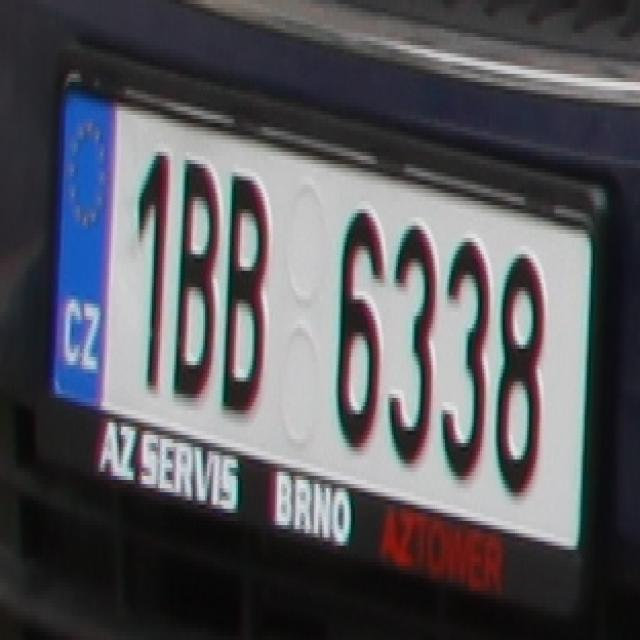1: (133, 144, 166, 398)
3: (390, 201, 439, 472), (445, 233, 492, 492)
6: (322, 197, 384, 447)
8: (494, 246, 548, 497)
B: (219, 160, 271, 418), (172, 152, 215, 394)
